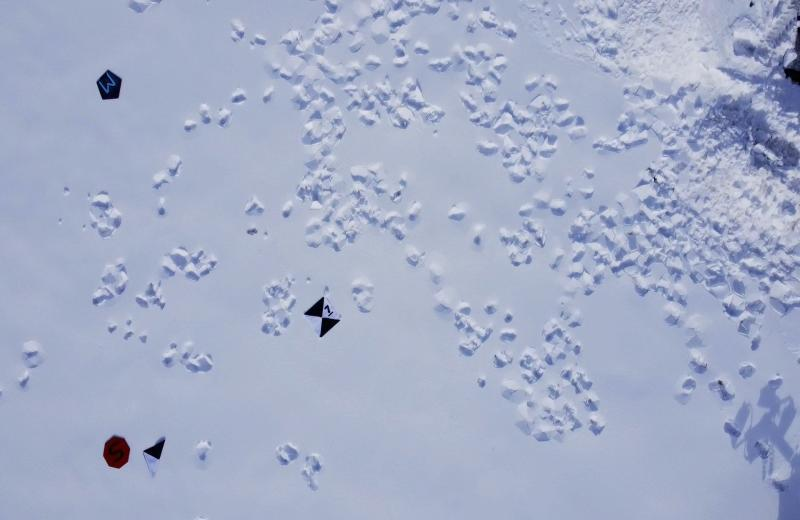Octagon: (101, 436, 131, 470)
Pentagon: (94, 67, 126, 104)
